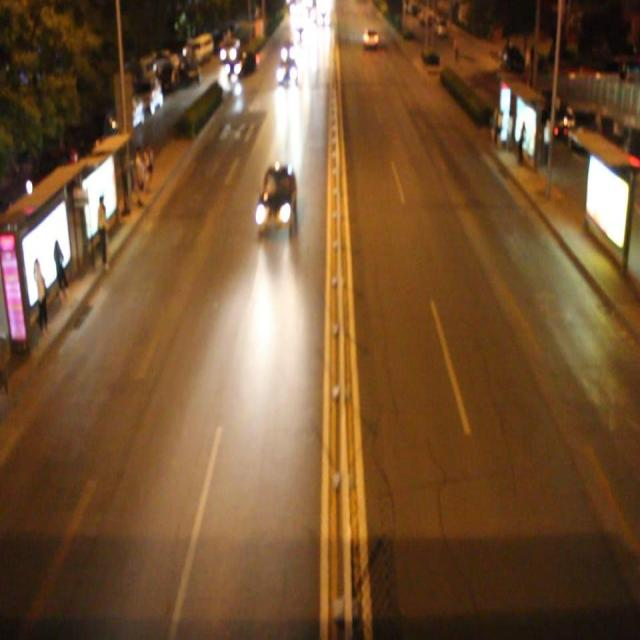car: (254, 164, 296, 232), (276, 54, 297, 86)
